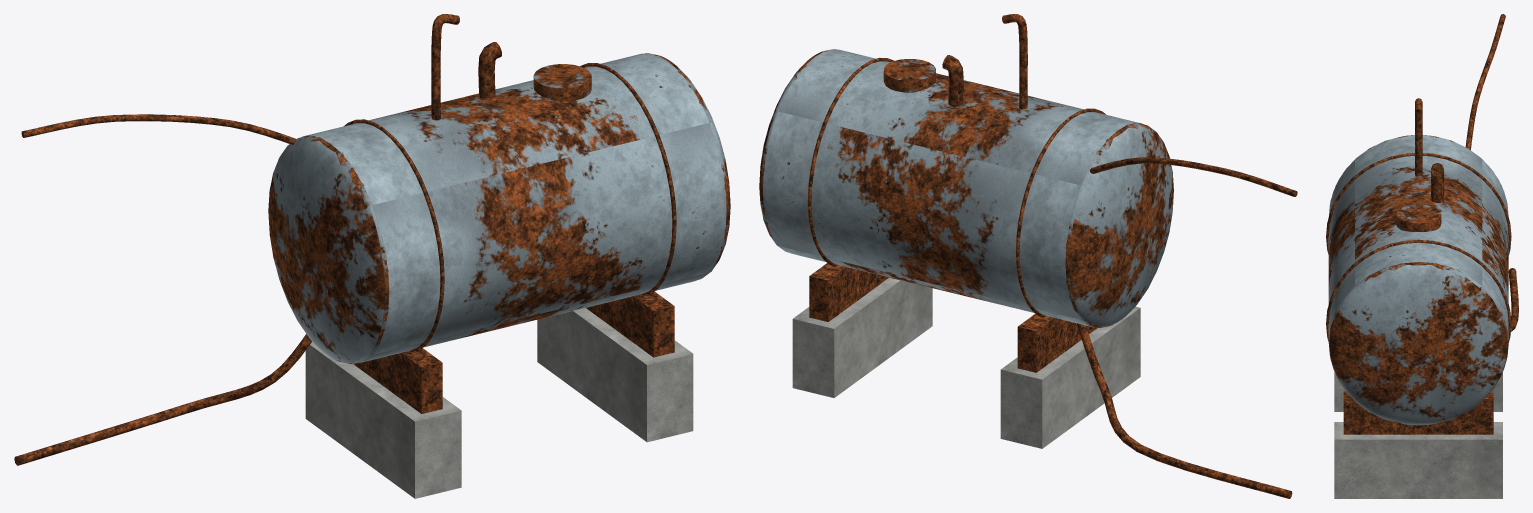
File: B14_Outdoor_Fuel_Tank.fbx
The picture shows the model from 3 angles, left to right: view 1: azimuth 30°, elevation 25°; view 2: azimuth 150°, elevation 25°; view 3: azimuth 270°, elevation 25°; orthographic projection. The views are drawn at different scales.
Visible parts, largest first — view 1: Tank_Shell, Tank_End_-1, Saddle_Base, Saddle_Base.001, Saddle_Steel, Saddle_Steel.001, Supply_Pipe, Return_Pipe, Manhole, Saddle_Band, Saddle_Band.001, Vent_Pipe (+2 smaller); view 2: Tank_Shell, Tank_End_-1, Saddle_Base, Saddle_Base.001, Saddle_Steel.001, Supply_Pipe, Saddle_Steel, Manhole, Return_Pipe, Saddle_Band, Saddle_Band.001, Vent_Pipe (+2 smaller); view 3: Tank_End_1, Tank_Shell, Saddle_Base.001, Saddle_Steel.001, Manhole, Saddle_Band.001, Saddle_Band, Return_Pipe, Saddle_Base, Vent_Pipe, Fill_Pipe, Supply_Pipe.
Part boxes in pixels (x1,y1,x2,y2): Tank_Shell: (302, 53, 726, 363); Tank_End_-1: (268, 135, 389, 364); Saddle_Base: (305, 341, 461, 498); Saddle_Base.001: (537, 308, 693, 442); Saddle_Steel: (353, 348, 442, 413); Saddle_Steel.001: (586, 291, 674, 357); Supply_Pipe: (14, 334, 311, 465); Return_Pipe: (21, 114, 296, 144); Manhole: (533, 64, 591, 101); Saddle_Band: (344, 119, 444, 352); Saddle_Band.001: (580, 63, 676, 295); Vent_Pipe: (431, 14, 459, 120); Tank_Shell: (763, 49, 1143, 327); Tank_End_-1: (1065, 123, 1173, 327); Saddle_Base: (1000, 306, 1140, 448); Saddle_Base.001: (792, 277, 932, 397); Saddle_Steel.001: (809, 263, 888, 321); Supply_Pipe: (1076, 323, 1292, 498); Saddle_Steel: (1017, 314, 1097, 372); Manhole: (883, 59, 935, 92); Return_Pipe: (1089, 157, 1297, 196); Saddle_Band: (1015, 108, 1105, 317); Saddle_Band.001: (807, 57, 894, 266); Vent_Pipe: (1002, 14, 1027, 109); Tank_End_1: (1329, 262, 1508, 425); Tank_Shell: (1328, 135, 1508, 396); Saddle_Base.001: (1334, 422, 1502, 498); Saddle_Steel.001: (1343, 391, 1493, 434); Manhole: (1396, 204, 1441, 231); Saddle_Band.001: (1326, 239, 1511, 342); Saddle_Band: (1326, 153, 1511, 255); Return_Pipe: (1465, 14, 1505, 149); Saddle_Base: (1334, 372, 1502, 411); Vent_Pipe: (1415, 98, 1422, 176); Fill_Pipe: (1431, 163, 1443, 202); Supply_Pipe: (1508, 268, 1518, 331).
Bounding box in the file's own units: 2.91 × 1.92 × 1.03.
Materials: 3 (3 with a texture image).
